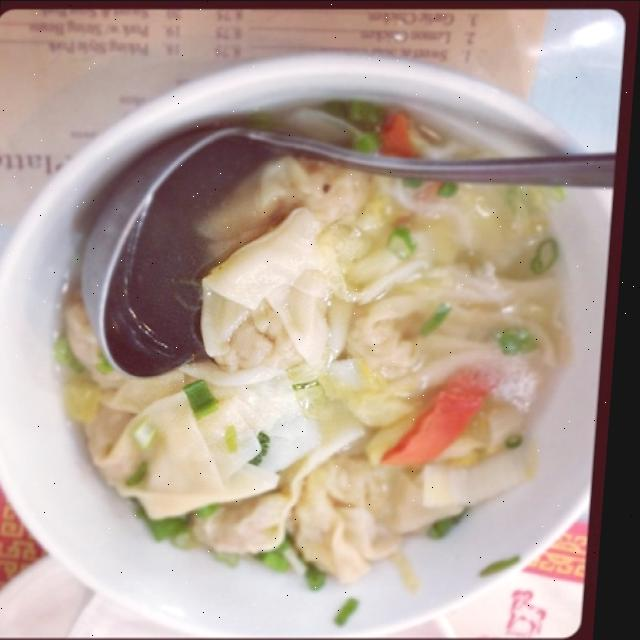汤锅炖物: (19, 56, 579, 604)
